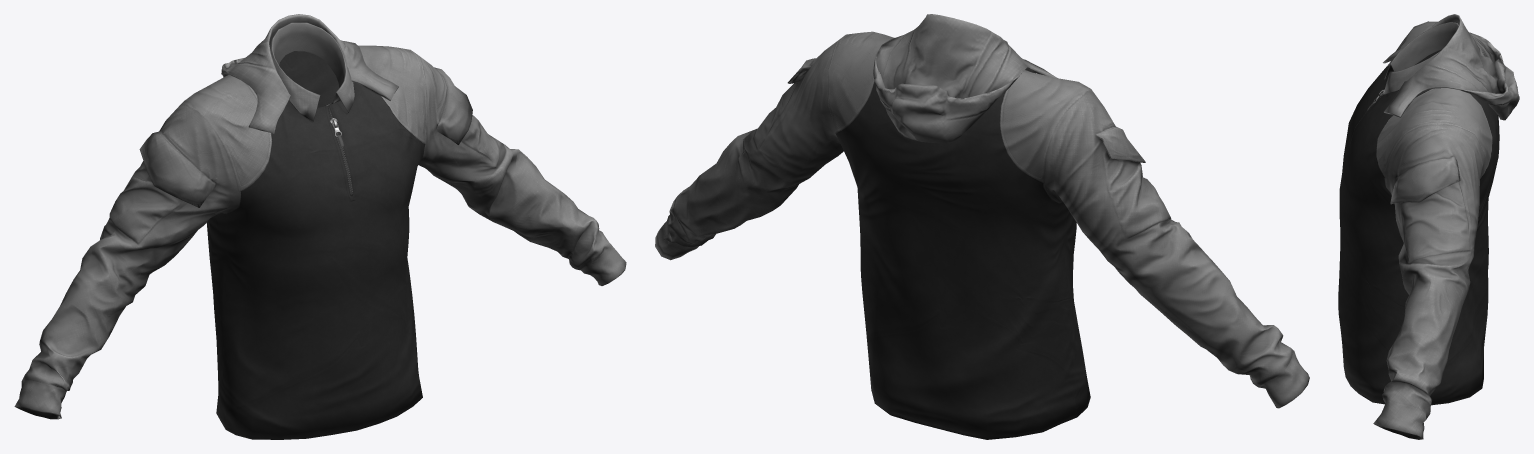
Rendered from low_poly_tactical_jacket.glb.
The picture shows the model from 3 angles, left to right: view 1: azimuth 30°, elevation 25°; view 2: azimuth 150°, elevation 25°; view 3: azimuth 270°, elevation 25°; orthographic projection. The views are drawn at different scales.
Visible parts, largest first — view 1: Low Poly Sviter_Material #26_0; view 2: Low Poly Sviter_Material #26_0; view 3: Low Poly Sviter_Material #26_0.
Boxes of the visible parts, x1=… form: Low Poly Sviter_Material #26_0: x1=14, y1=14, x2=626, y2=439; Low Poly Sviter_Material #26_0: x1=655, y1=14, x2=1309, y2=439; Low Poly Sviter_Material #26_0: x1=1338, y1=14, x2=1519, y2=439.
Size of the model in its own units: 6.63 by 3.95 by 1.86.
2 materials, 2 textured.
